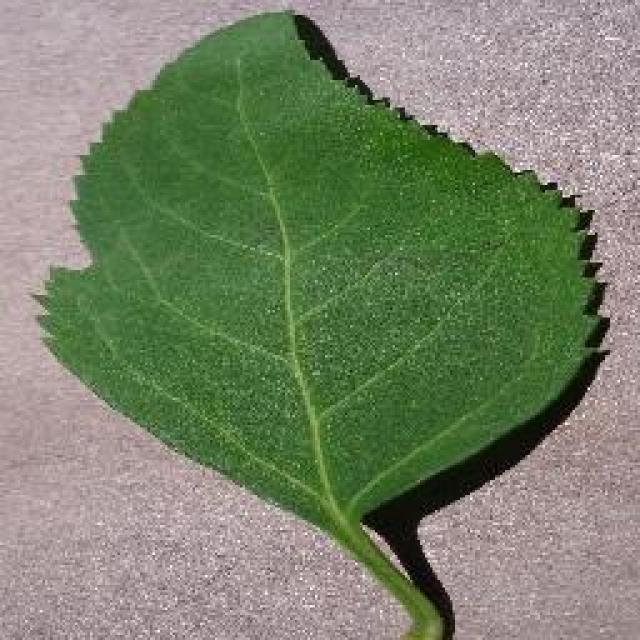Cher_including_sour_healthy: (51, 61, 559, 498)
